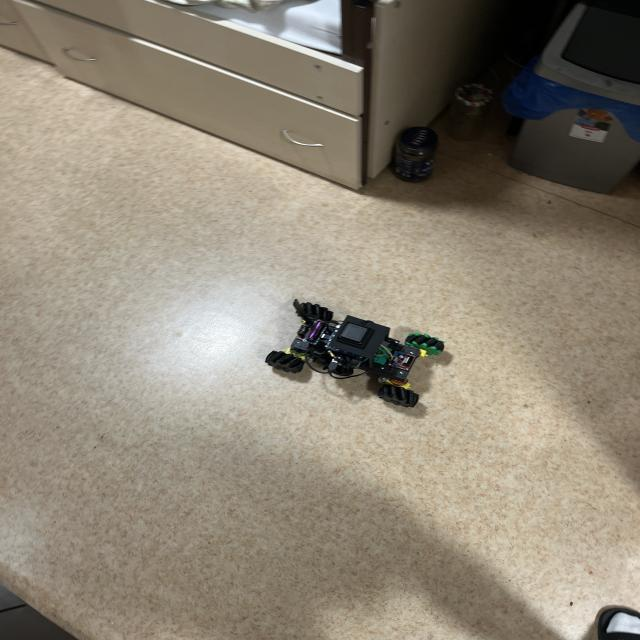robot: (265, 299, 444, 407)
